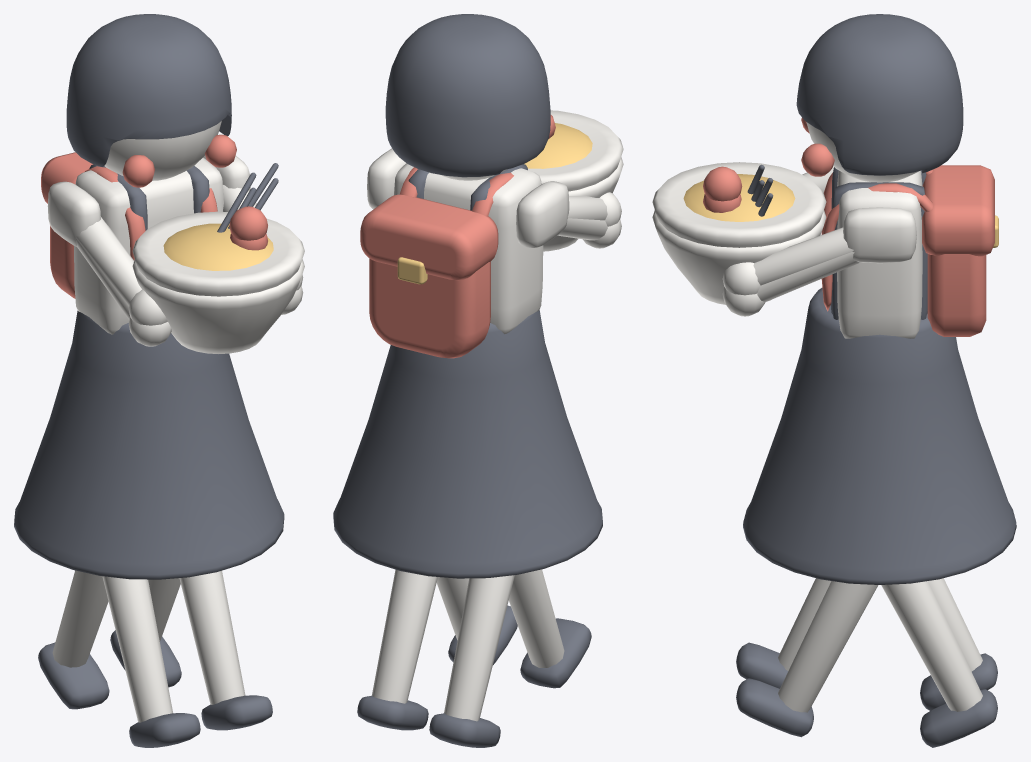
Rendered from girl.glb.
3 renders of one model, left to right at view 1: azimuth 30°, elevation 25°; view 2: azimuth 150°, elevation 25°; view 3: azimuth 270°, elevation 25°, orthographic.
Parts seen in each view (by area): view 1: runA, runB; view 2: runA, runB; view 3: runA, runB.
Boxes of the visible parts, x1,y1,x2,y2 form: runA: (14,14,304,747); runB: (38,136,304,730); runA: (333,14,623,730); runB: (429,115,623,747); runA: (652,14,1016,747); runB: (652,132,997,737).
Size of the model in its own units: 0.9744 by 2.74 by 1.3.
